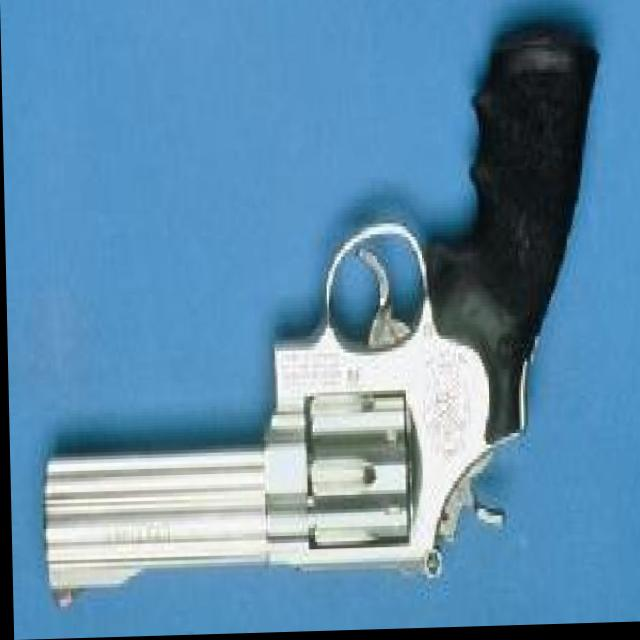handgun: (39, 29, 617, 614)
